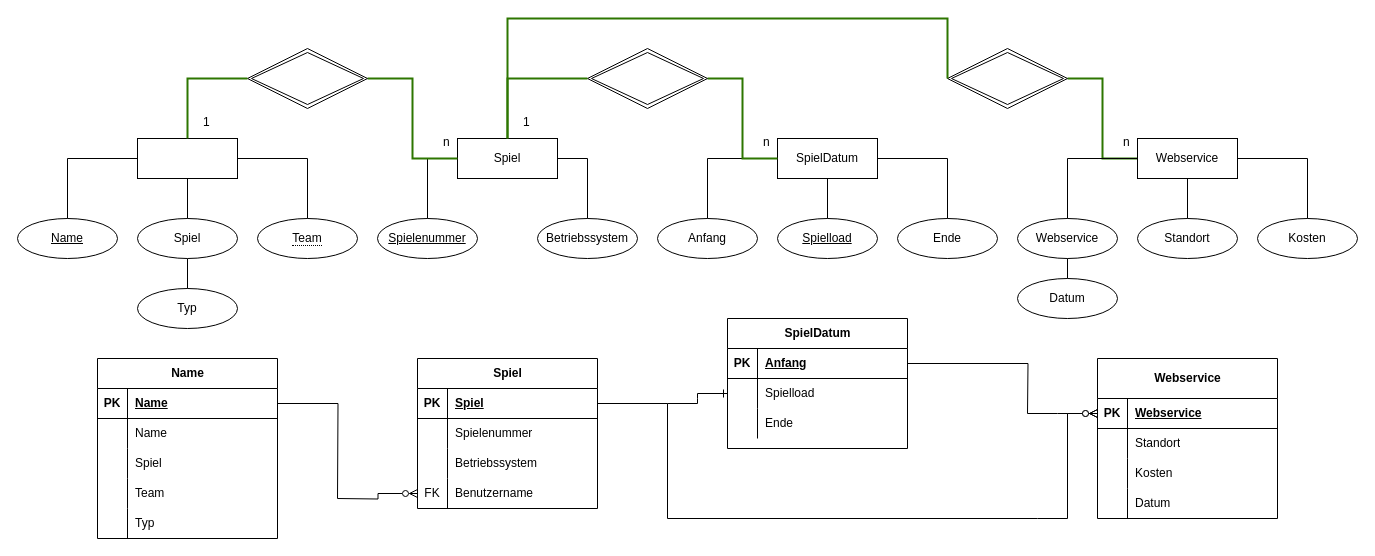
Some shapes in this 1375 by 556 pixel diagram are drawn without their labels. The shapes that lost their labels are listed below. From the top down, each one's box as (x1, y1, x2, y2) in pixels, then its label:
(246, 48, 368, 108): Kauft ein
(586, 48, 708, 108): Spieltzeit
(946, 48, 1068, 108): Braucht
(136, 138, 238, 178): Benutzer
